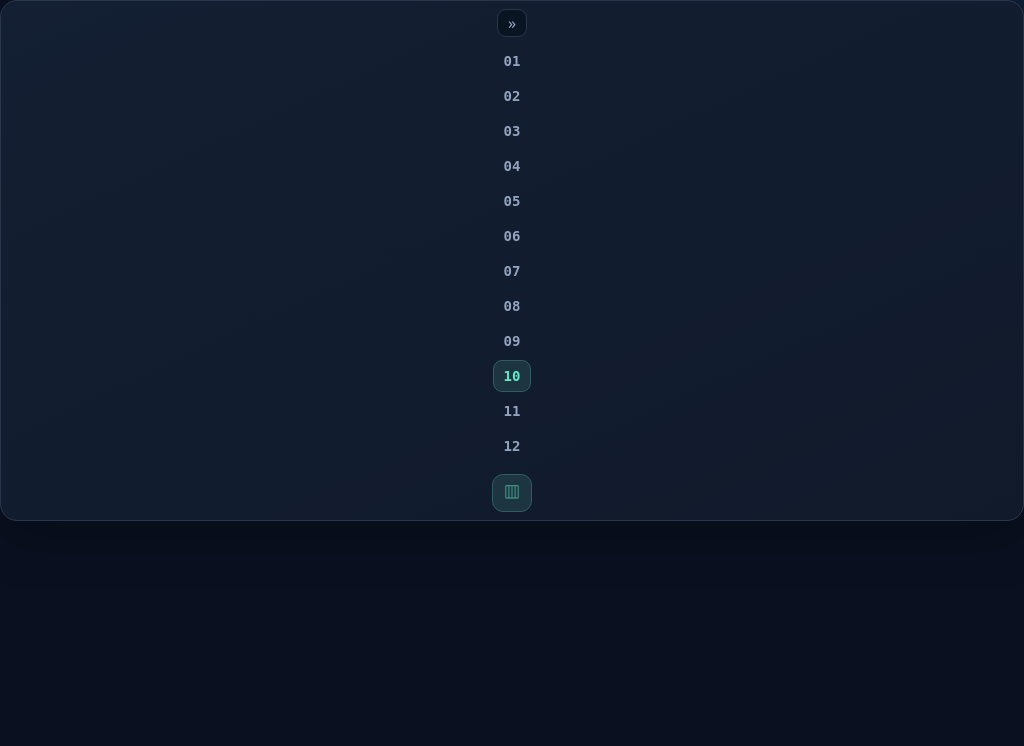
Test: AlgorithmSidebar — textbook chapters (UX-03) › collapses to a chapter rail and re-expands the chosen chapter
Check: the button with test id "sidebar-expand" is shown, box [497,9,527,37]
Click the button with test id "rail-chapter-ch7-graph".
click(512, 271)  # box [493,255,531,287]
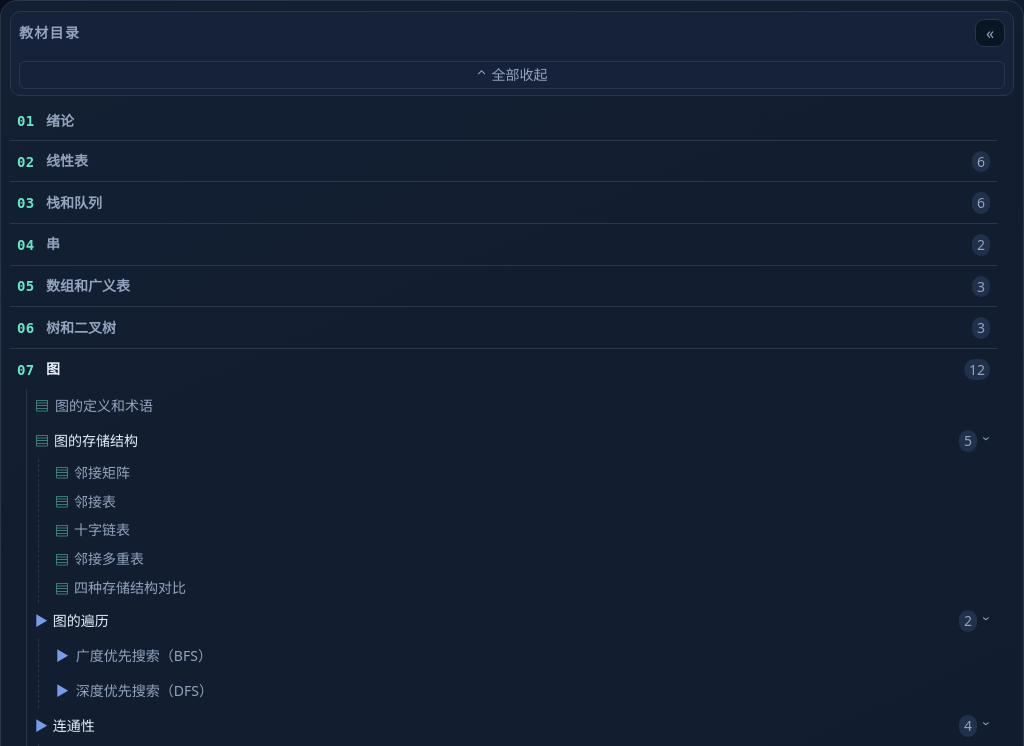
Check: the button with test id "sidebar-toggle-all" is shown, box [19,61,1005,89]
